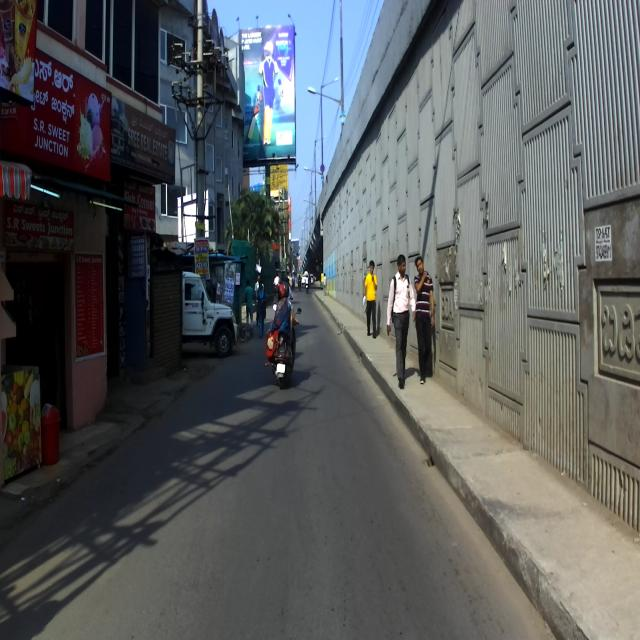car ahead at: (183, 270, 238, 358)
person ahead at: (386, 248, 416, 392)
